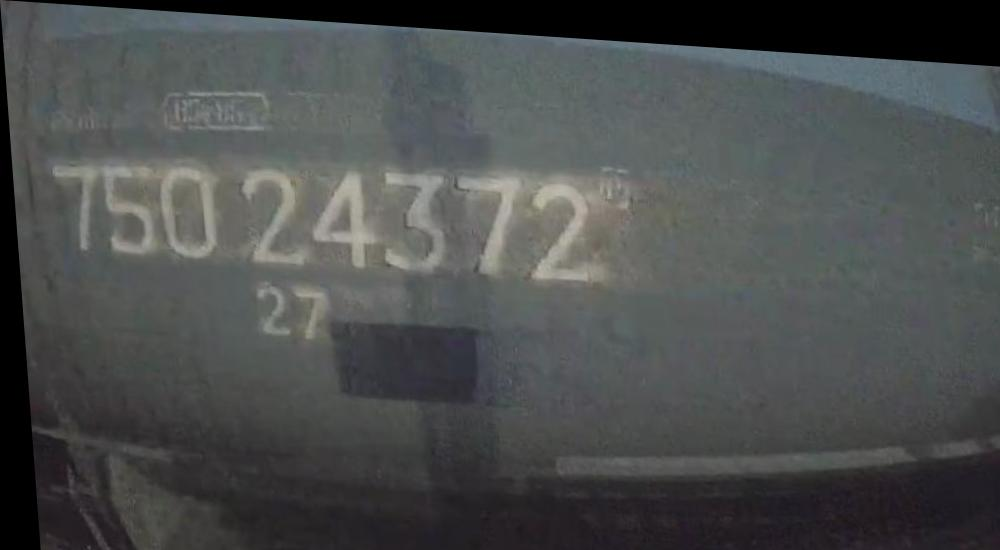Wagon-number: (32, 140, 591, 281)
